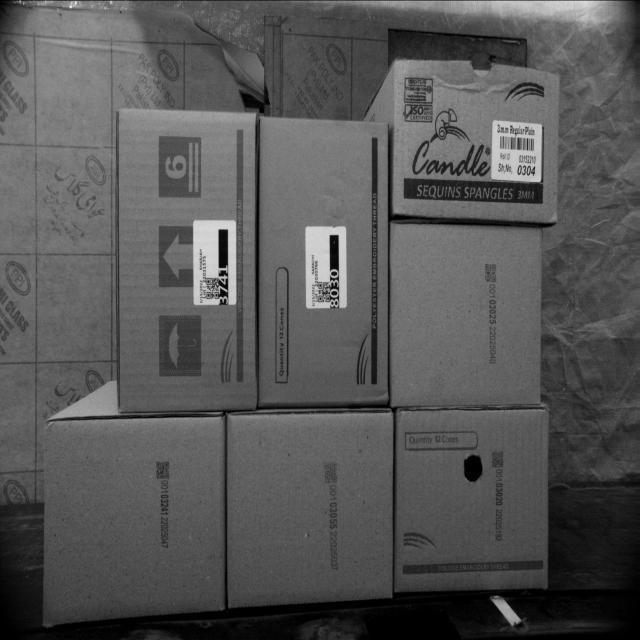box: (114, 104, 255, 413), (44, 414, 226, 630), (260, 115, 390, 406), (224, 410, 395, 606), (388, 222, 542, 410), (393, 411, 549, 594), (395, 56, 560, 220)
